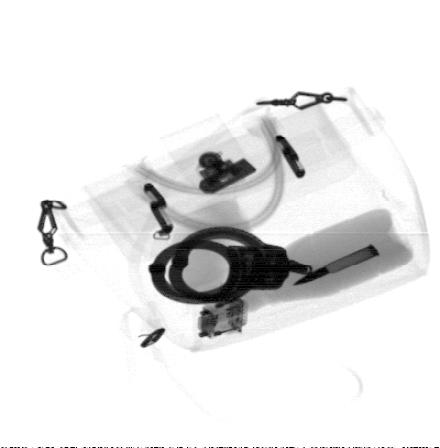Bullet: (290, 242, 381, 283)
HandCuffs: (147, 223, 316, 313)
